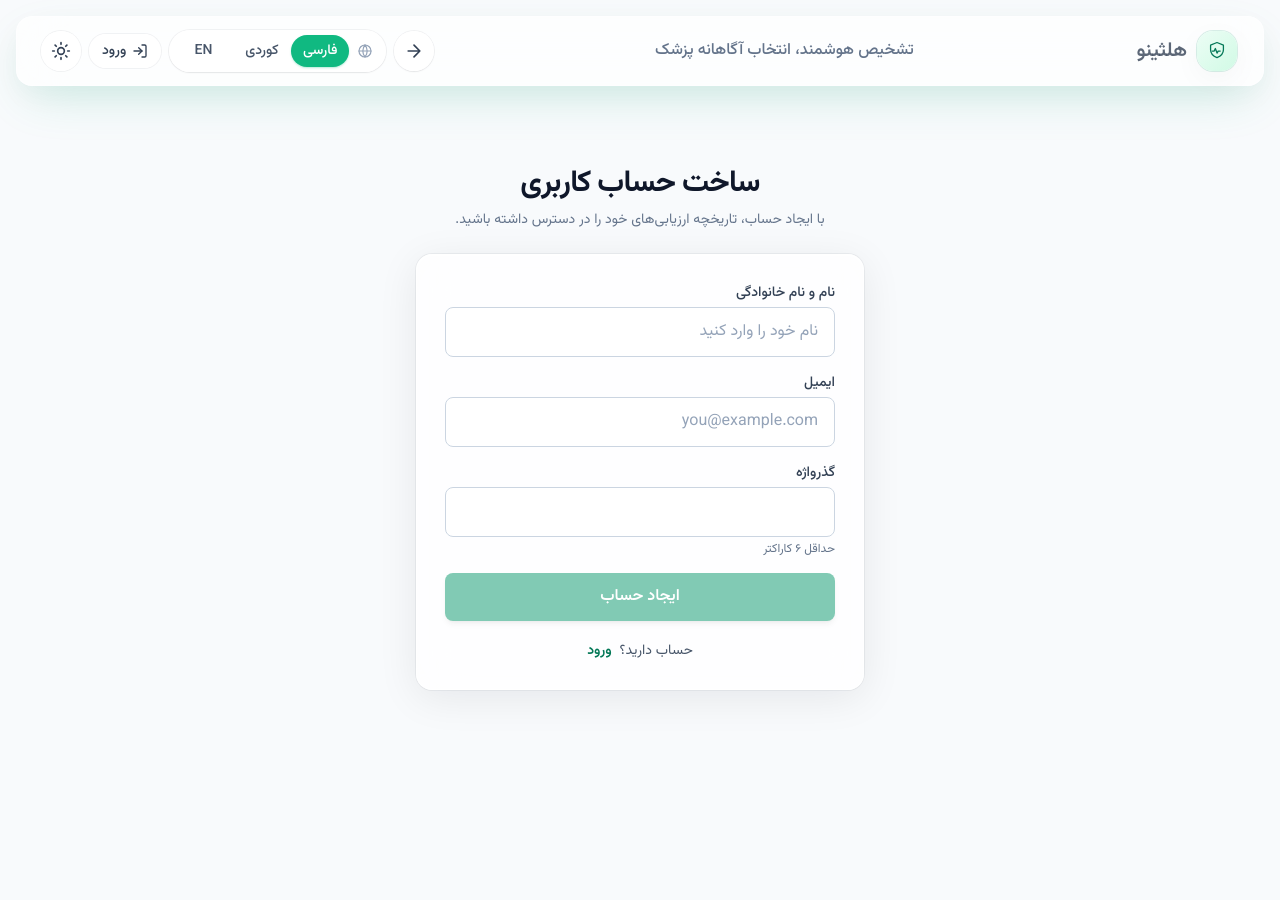
Scenario: Register.vue › keeps submit disabled until name (≥2) + email + password (≥6) are filled
Check: the button with test id "register-submit" is disabled, box [445,573,835,621]
Type "S" into the field with test id "register-name" at (640, 332), box [445,307,835,357]
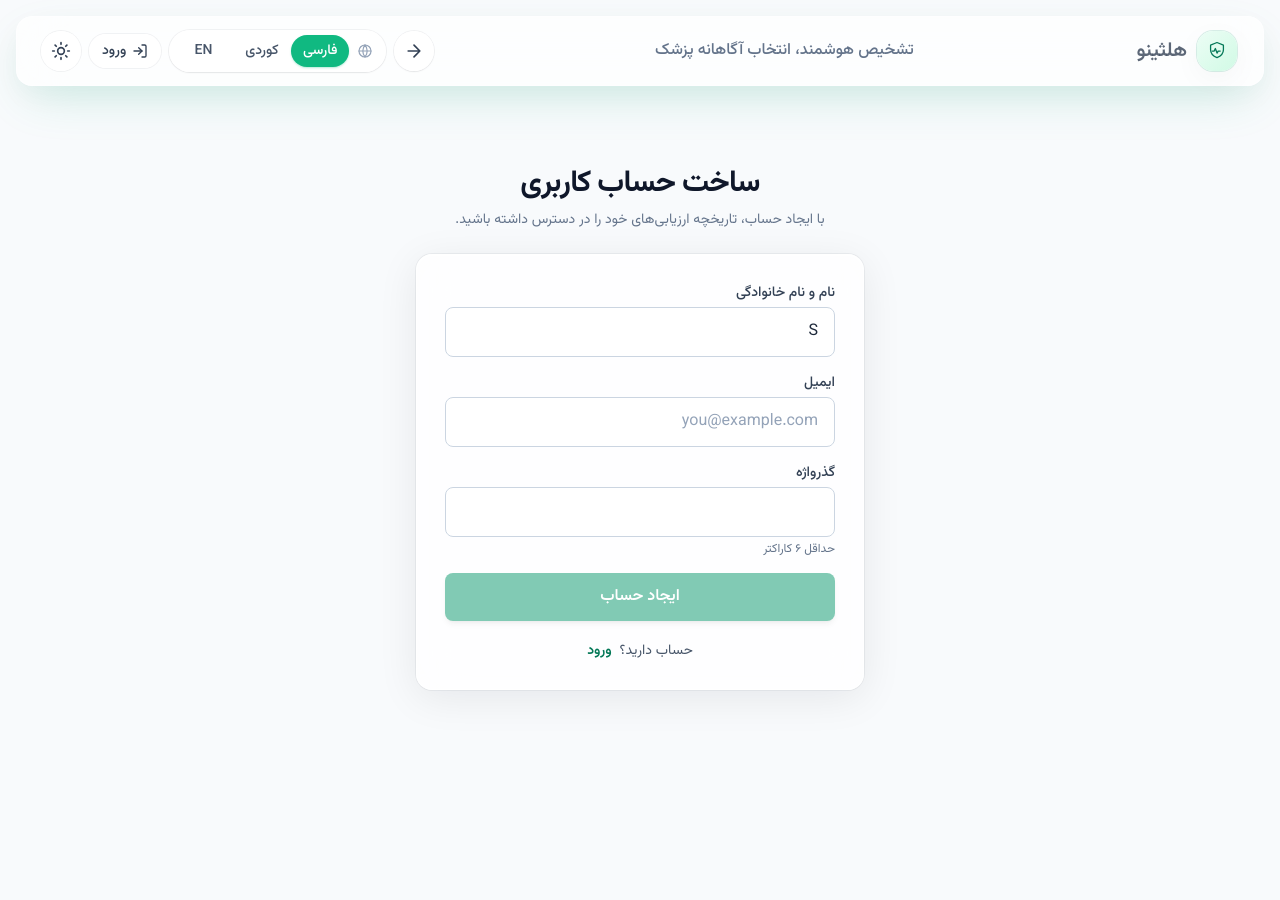
Type "s@x.io" into the field with test id "register-email" at (640, 422), box [445,397,835,447]
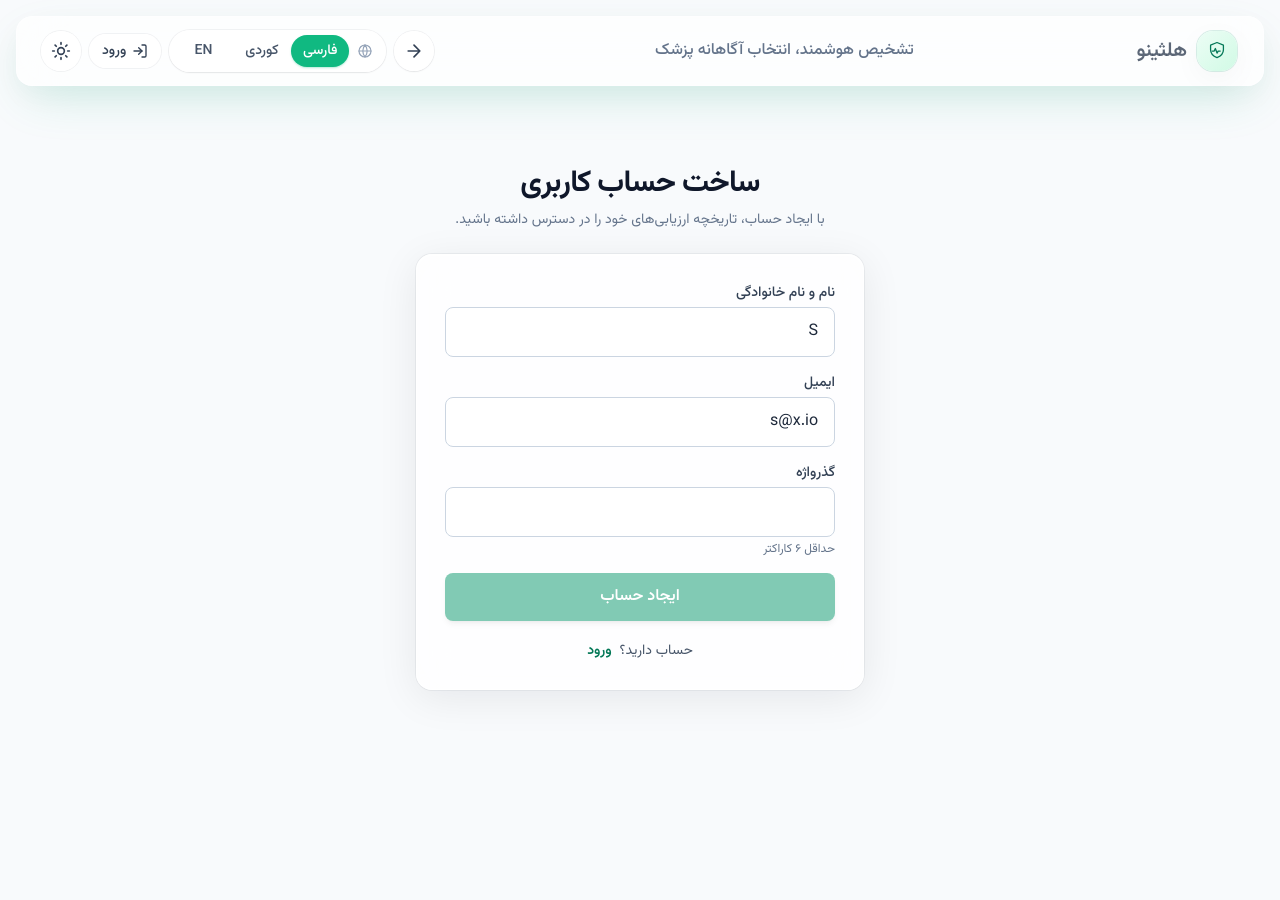
Type "secret123" into the password field with test id "register-password" at (640, 512), box [445,487,835,537]
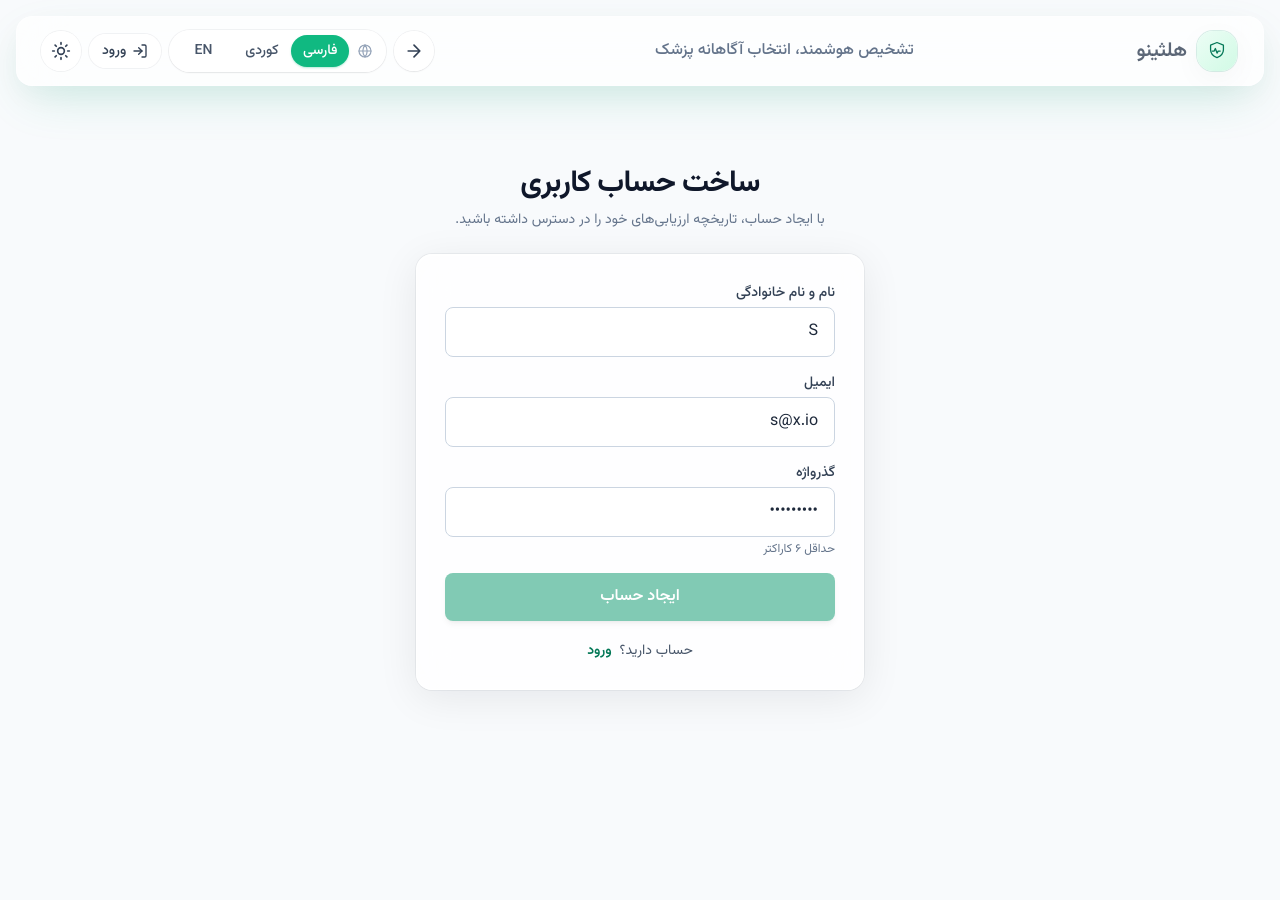
Check: the button with test id "register-submit" is disabled, box [445,573,835,621]
Replace the text in the field with test id "register-name" with "Sara" at (640, 332), box [445,307,835,357]
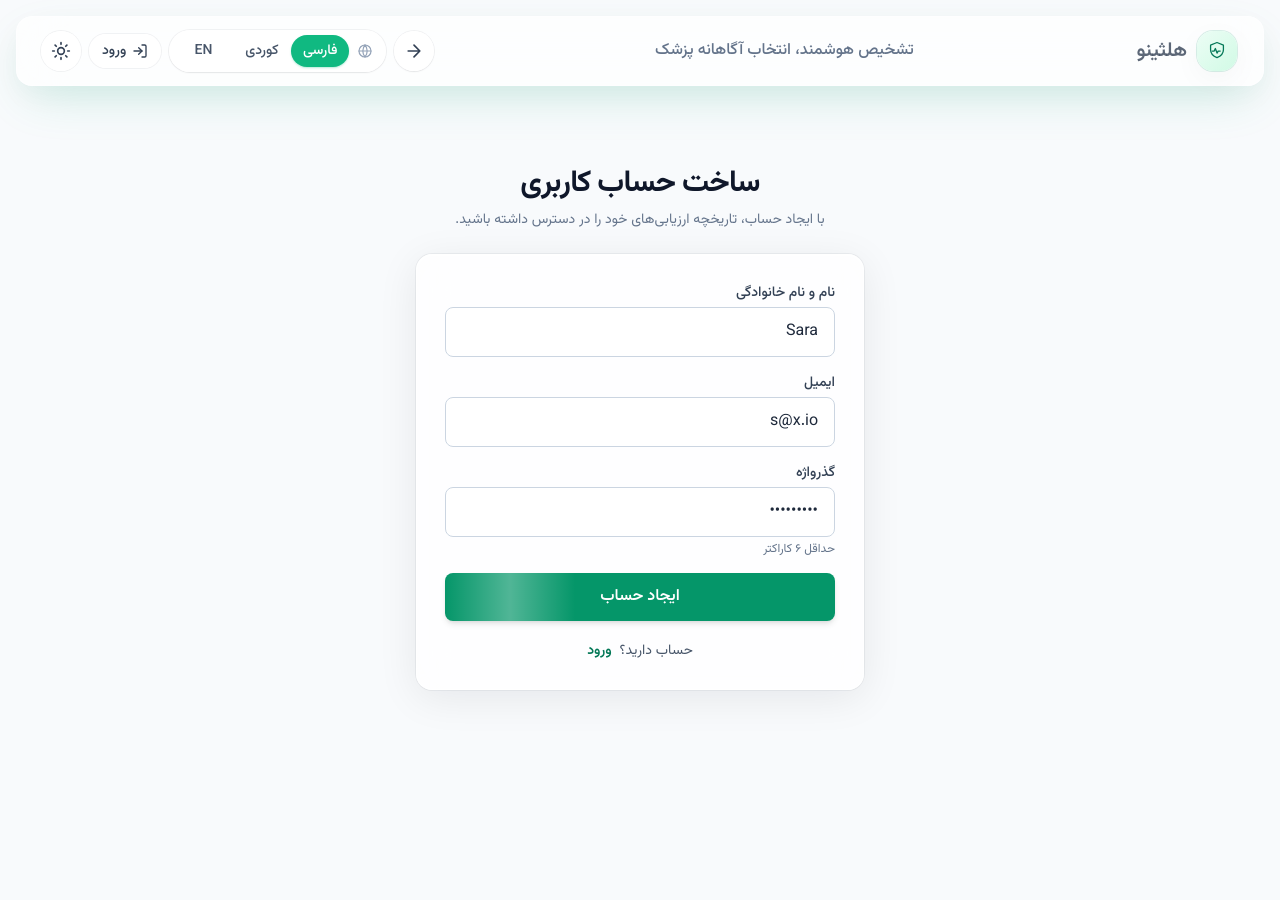
Check: the button with test id "register-submit" is enabled, box [445,573,835,621]
